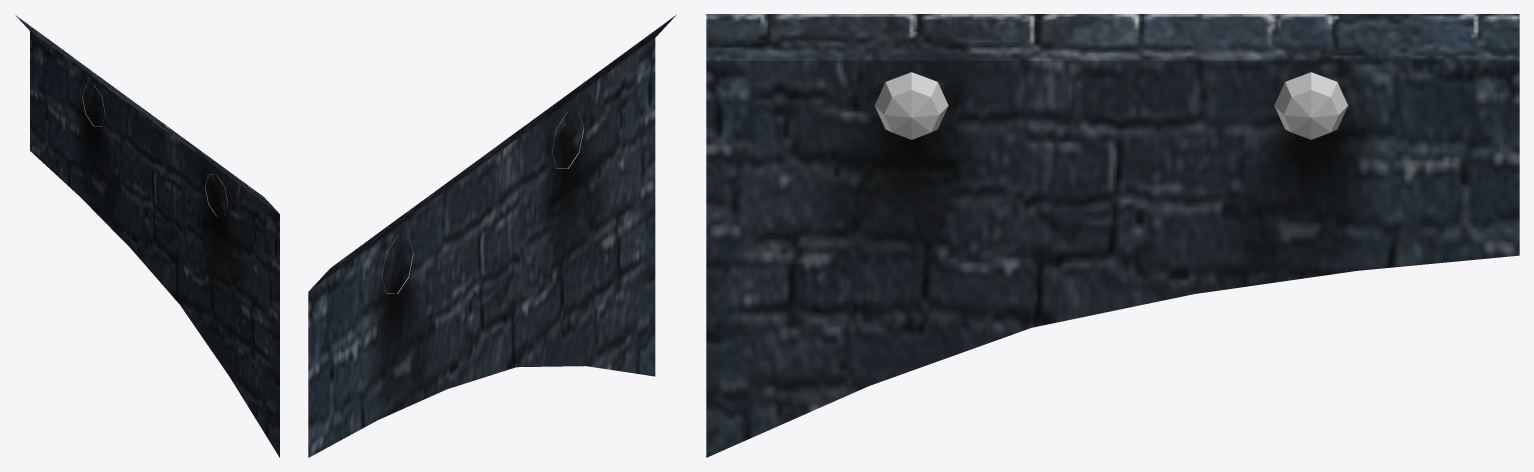
3 views of the same model, side by side, from view 1: azimuth 30°, elevation 25°; view 2: azimuth 150°, elevation 25°; view 3: azimuth 270°, elevation 25° (orthographic). The views are drawn at different scales.
Visible parts, largest first — view 1: xs_wj04; view 2: xs_wj04; view 3: xs_wj04.
Boxes of the visible parts, left/top/right/bottom form: xs_wj04: left=15, top=15, right=279, bottom=457; xs_wj04: left=308, top=15, right=675, bottom=457; xs_wj04: left=706, top=14, right=1519, bottom=457.
Bounding box in the file's own units: 110 × 892 × 1524.
